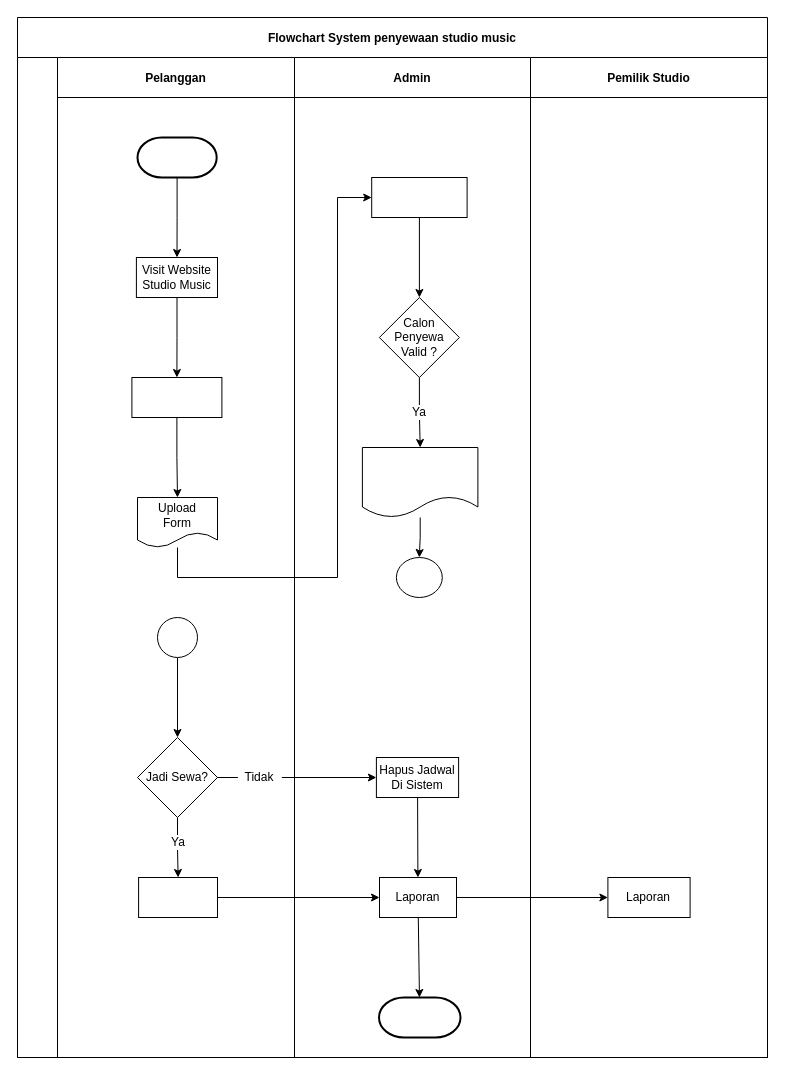
This 785x1075 diagram has some shape labels left out. The centre of each missing label's shape, as x and y in pixels:
"End" belongs at (419,1017).
"Konfirmasi Calon Penyewa" belongs at (419,197).
"Konfirmasi Jadi" belongs at (178,897).
"Pencetakan Jadwal Di Sistem" belongs at (419,482).
"Pengisian Form Registrasi" belongs at (176,397).
"Start" belongs at (176,157).
